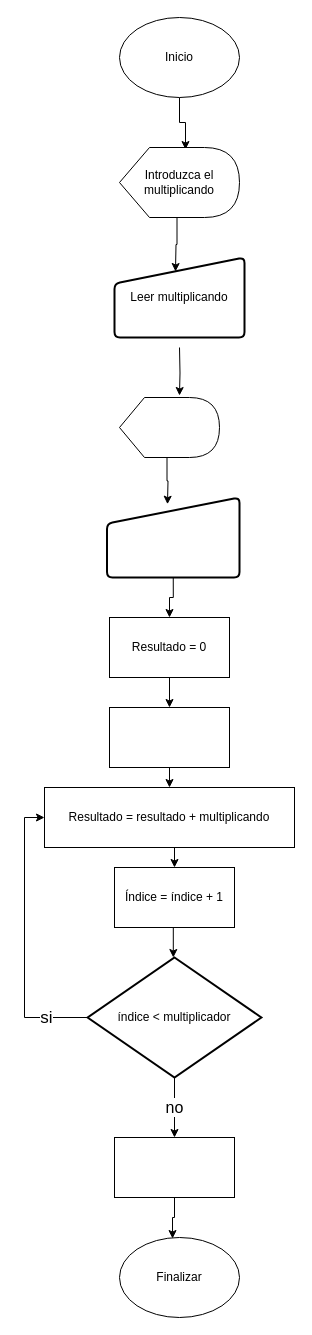
The diagram is 312 pixels wide and 1335 high, and some of its shapes have lost their labels. The shapes that lost their labels are listed below. From the top down, each one's box as (x1, y1, x2, y2) in pixels, then its label:
(118, 396, 220, 458): Introduzca el multiplicador
(106, 496, 240, 578): Leer multiplicador
(108, 706, 230, 768): Índice = 0
(114, 1136, 234, 1198): Mostrar resultado
